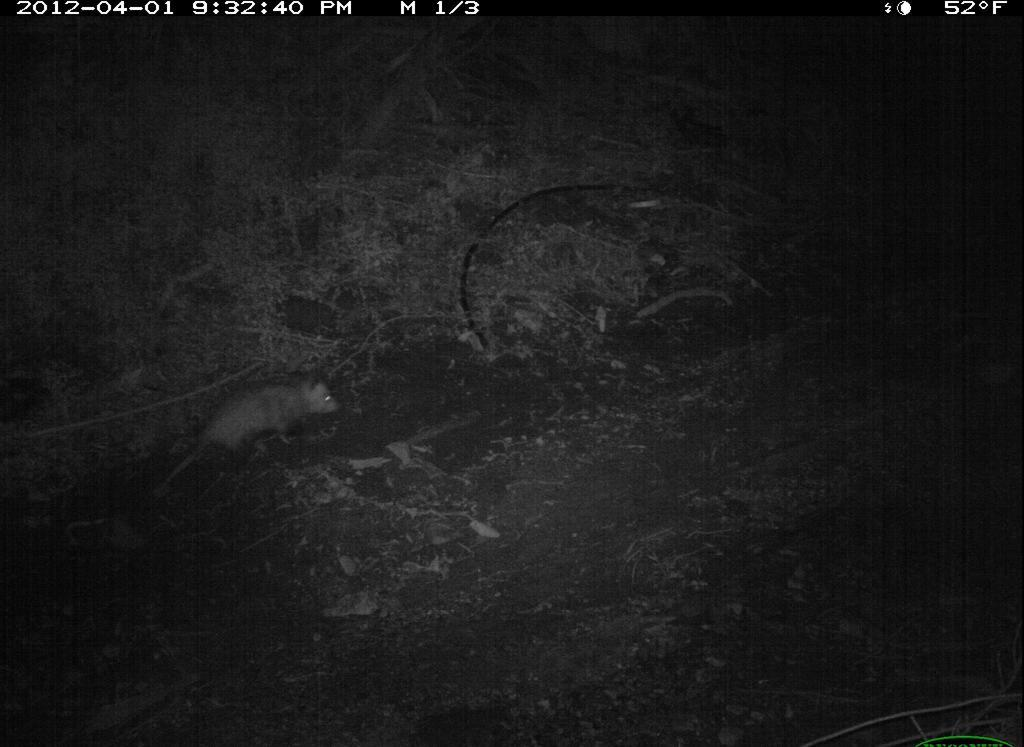opossum: (153, 370, 346, 500)
